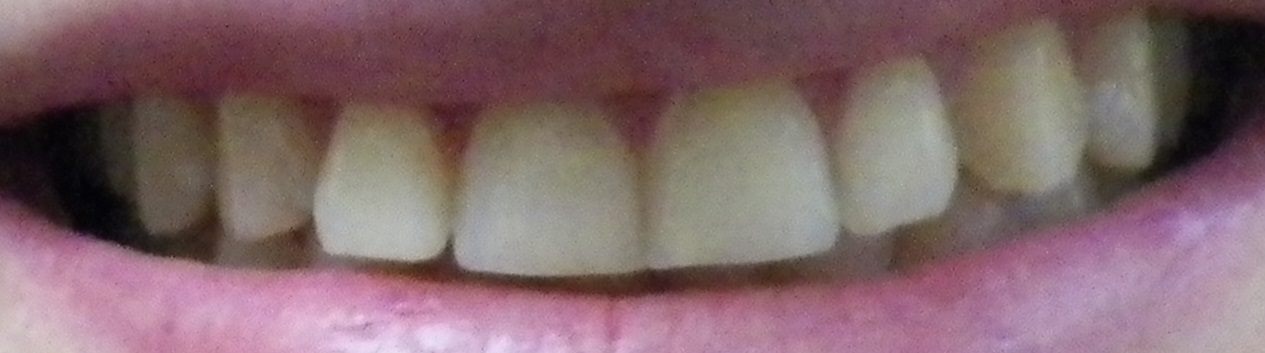boca: (93, 21, 1237, 277)
